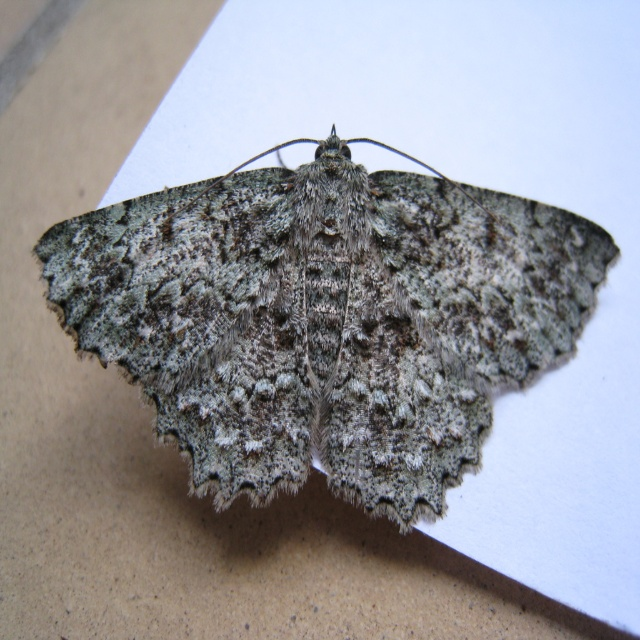Butterfly: (34, 124, 621, 534)
